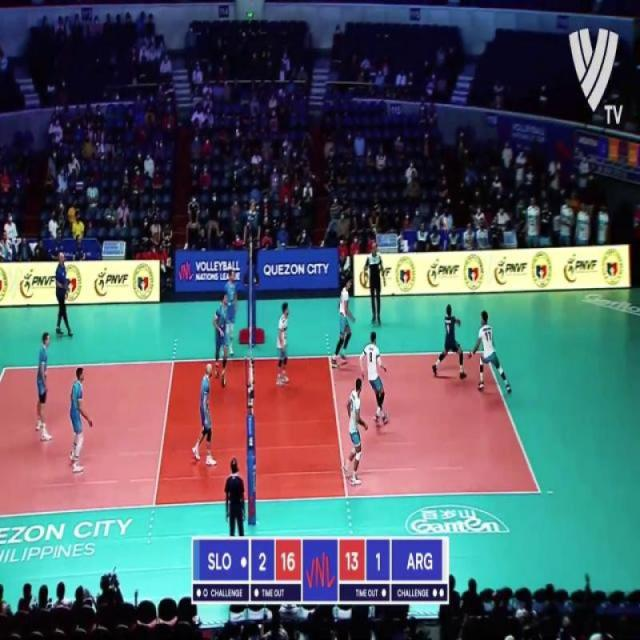volleyball: (440, 218, 451, 234)
